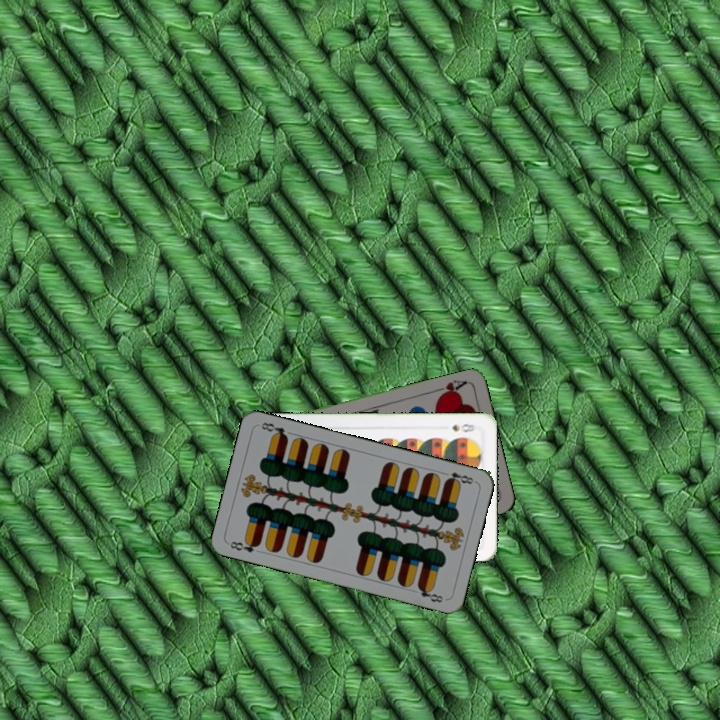E8: (438, 468, 476, 487), (226, 536, 263, 555)
HA: (430, 376, 470, 400)
S8: (449, 419, 477, 435)
